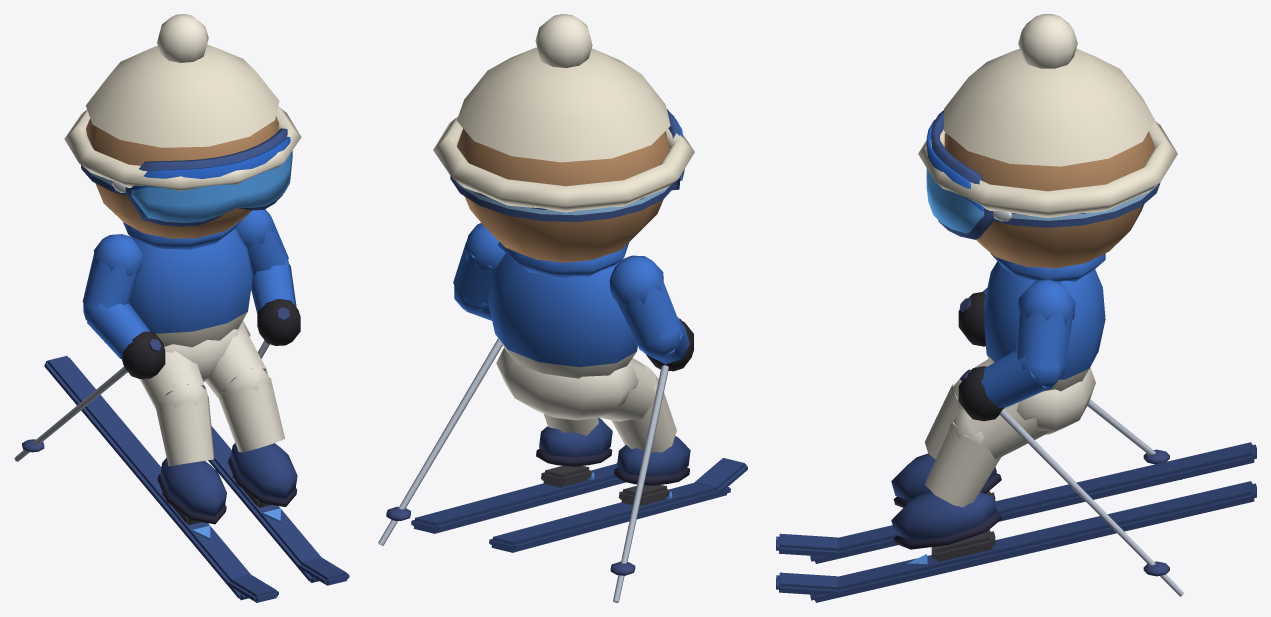
File: rider_ski_lift.glb
3 renders of one model, left to right at view 1: azimuth 30°, elevation 25°; view 2: azimuth 150°, elevation 25°; view 3: azimuth 270°, elevation 25°, orthographic. The views are drawn at different scales.
Parts seen in each view (by area): view 1: LSK_Beanie, LSK_Torso, LSK_GoggleLens, LSK_Ski_-1, LSK_Head, LSK_Cuff, LSK_Shin_R, LSK_Shin_L, LSK_Ski_1, LSK_Shoe_L, LSK_Shoe_R, LSK_GoggleFrame (+20 smaller); view 2: LSK_Beanie, LSK_Torso, LSK_Head, LSK_Cuff, LSK_Pelvis, LSK_Ski_-1, LSK_Ski_1, LSK_Pom, LSK_UpperArm_L, LSK_Shoulder_L, LSK_Shoe_R, LSK_Shin_L (+18 smaller); view 3: LSK_Beanie, LSK_Head, LSK_Ski_1, LSK_Ski_-1, LSK_Cuff, LSK_Torso, LSK_Shin_R, LSK_Shoe_R, LSK_UpperArm_R, LSK_Pom, LSK_Pelvis, LSK_GoggleLens (+17 smaller).
Part boxes in pixels (bbox=[...]): LSK_Beanie: bbox=[86, 44, 279, 147]; LSK_Torso: bbox=[130, 228, 252, 347]; LSK_GoggleLens: bbox=[131, 136, 292, 222]; LSK_Ski_-1: bbox=[44, 356, 250, 600]; LSK_Head: bbox=[86, 116, 279, 238]; LSK_Cuff: bbox=[64, 106, 301, 191]; LSK_Shin_R: bbox=[218, 377, 284, 452]; LSK_Shin_L: bbox=[155, 396, 214, 466]; LSK_Ski_1: bbox=[208, 426, 320, 582]; LSK_Shoe_L: bbox=[160, 458, 226, 516]; LSK_Shoe_R: bbox=[231, 443, 297, 498]; LSK_GoggleFrame: bbox=[125, 128, 287, 226]; LSK_Beanie: bbox=[456, 47, 670, 162]; LSK_Torso: bbox=[488, 253, 637, 378]; LSK_Head: bbox=[457, 128, 670, 262]; LSK_Cuff: bbox=[433, 116, 694, 212]; LSK_Pelvis: bbox=[496, 347, 638, 420]; LSK_Ski_-1: bbox=[489, 482, 730, 552]; LSK_Ski_1: bbox=[411, 463, 625, 533]; LSK_Pom: bbox=[535, 14, 592, 68]; LSK_UpperArm_L: bbox=[614, 276, 680, 345]; LSK_Shoulder_L: bbox=[609, 255, 663, 306]; LSK_Shoe_R: bbox=[539, 417, 612, 457]; LSK_Shin_L: bbox=[611, 393, 676, 452]; LSK_Beanie: bbox=[944, 48, 1154, 166]; LSK_Head: bbox=[944, 131, 1154, 268]; LSK_Ski_1: bbox=[810, 481, 1256, 602]; LSK_Ski_-1: bbox=[810, 442, 1256, 563]; LSK_Cuff: bbox=[918, 121, 1177, 217]; LSK_Torso: bbox=[984, 261, 1105, 391]; LSK_Shin_R: bbox=[924, 422, 1000, 507]; LSK_Shoe_R: bbox=[891, 491, 996, 540]; LSK_UpperArm_R: bbox=[1016, 306, 1073, 368]; LSK_Pom: bbox=[1018, 14, 1077, 68]; LSK_Pelvis: bbox=[1016, 367, 1095, 434]; LSK_GoggleLens: bbox=[926, 120, 984, 233].
Bounding box in the file's own units: 0.6327 × 1.35 × 1.05.
